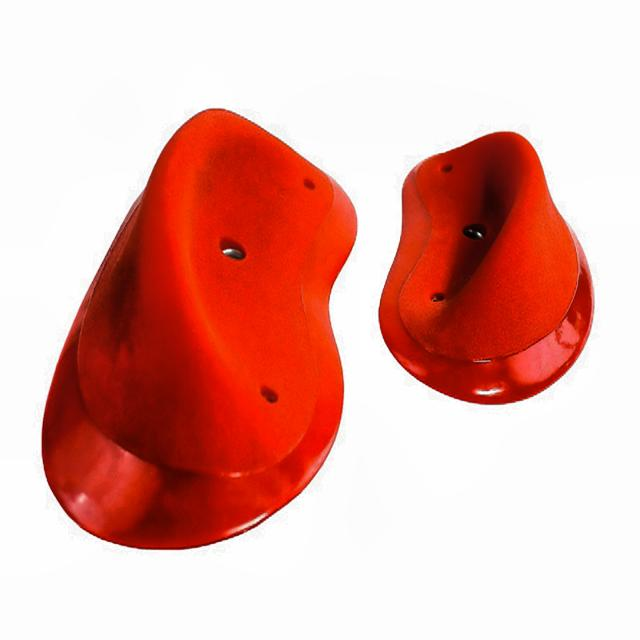Hold: (33, 87, 377, 560), (373, 124, 610, 423)
